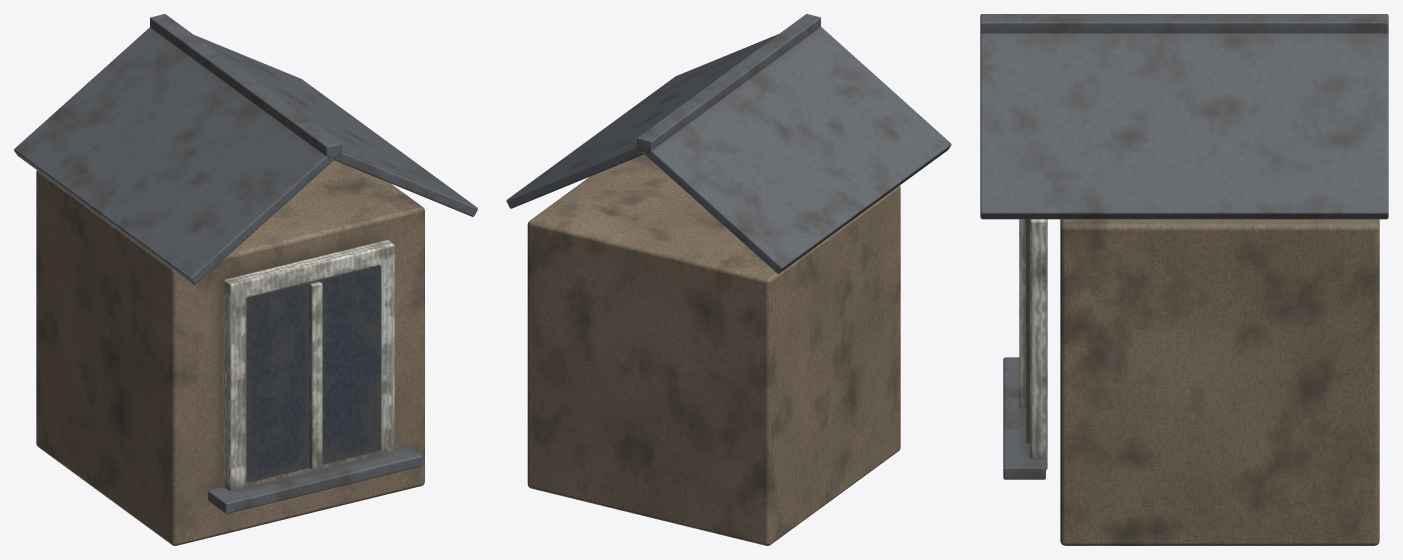
The model's file is dach_lukarna.glb.
The picture shows the model from 3 angles, left to right: view 1: azimuth 30°, elevation 25°; view 2: azimuth 150°, elevation 25°; view 3: azimuth 270°, elevation 25°; orthographic projection. The views are drawn at different scales.
Parts seen in each view (by area): view 1: Lukarna; view 2: Lukarna; view 3: Lukarna.
Boxes of the visible parts, bbox=[...] form: Lukarna: bbox=[14, 14, 477, 545]; Lukarna: bbox=[506, 14, 951, 545]; Lukarna: bbox=[980, 14, 1388, 545].
Bounding box in the file's own units: 1.08 × 1.42 × 1.15.
1 material, 1 textured.
